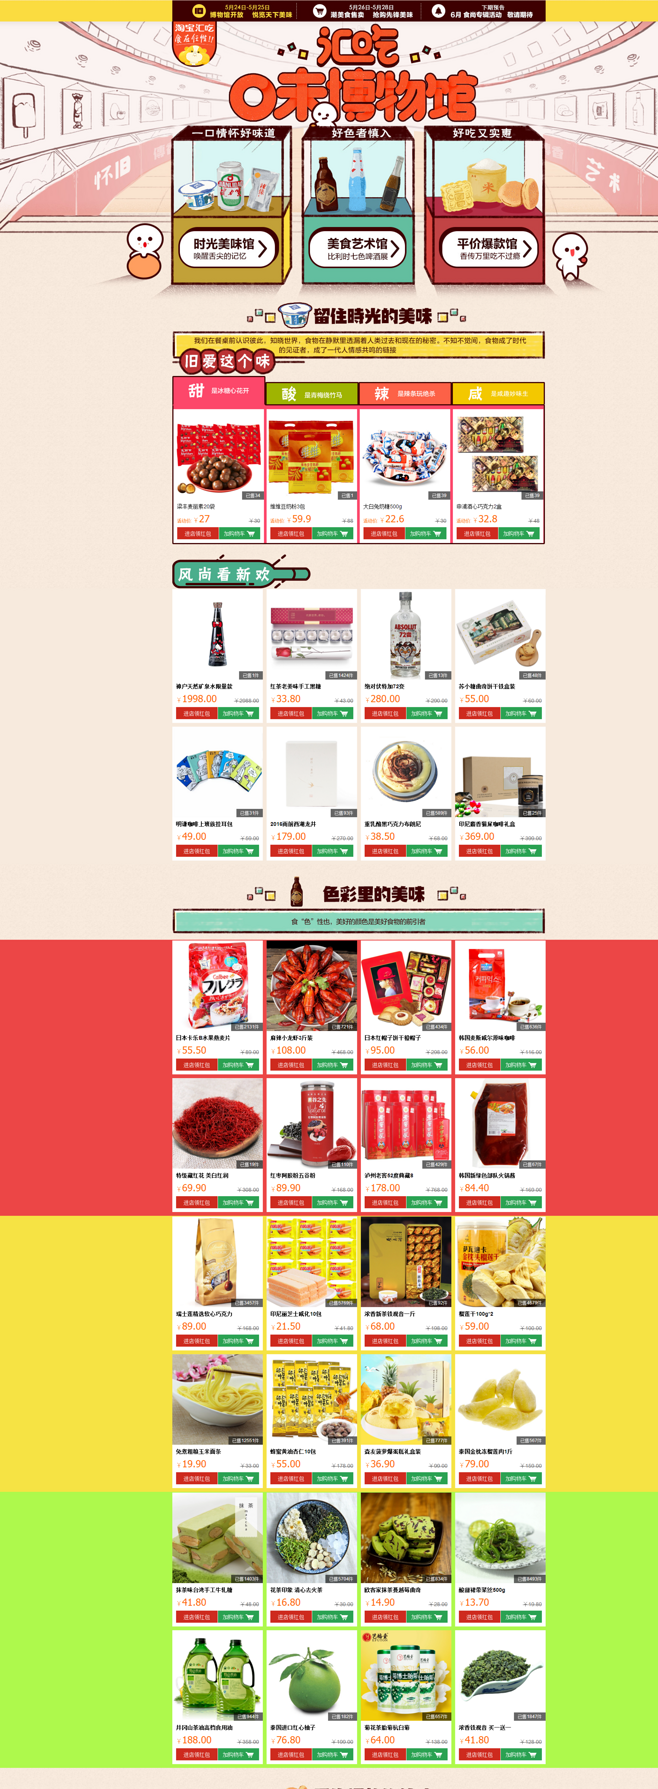floors: (164, 874, 551, 1767), (159, 296, 551, 866)
toutu: (1, 1, 658, 293)
